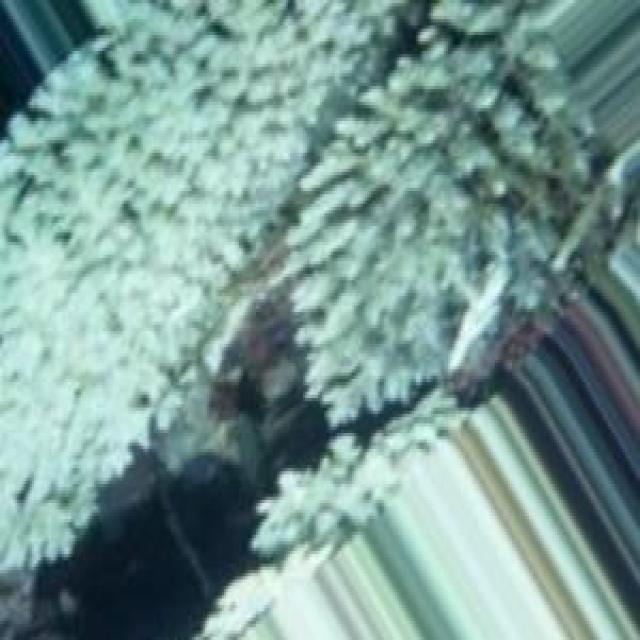Bleached: (1, 5, 399, 570), (286, 6, 590, 428)
